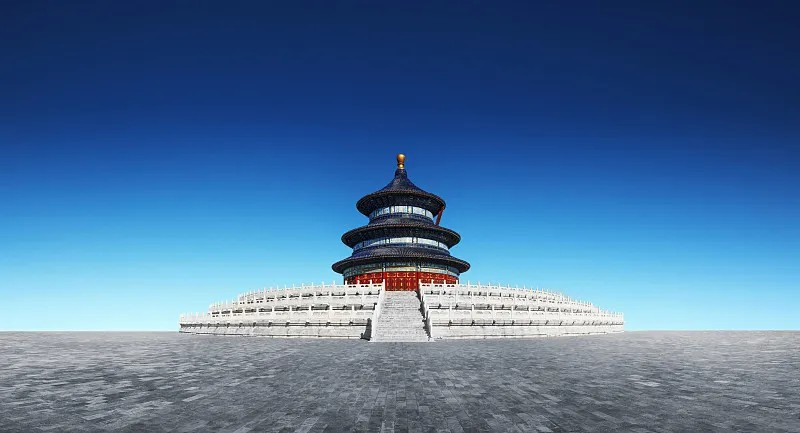Heaven: (330, 152, 471, 290)
